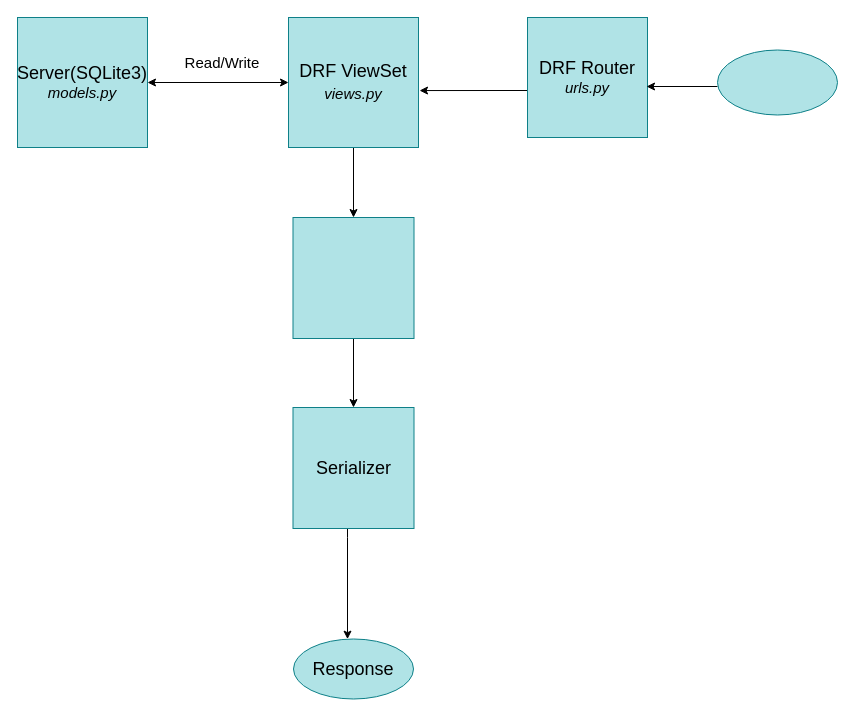
This 855x717 diagram has some shape labels left out. The centre of each missing label's shape, as x and y in pixels:
"Django Filters" belongs at pixel 353 277.
"Http Request" belongs at pixel 777 82.
